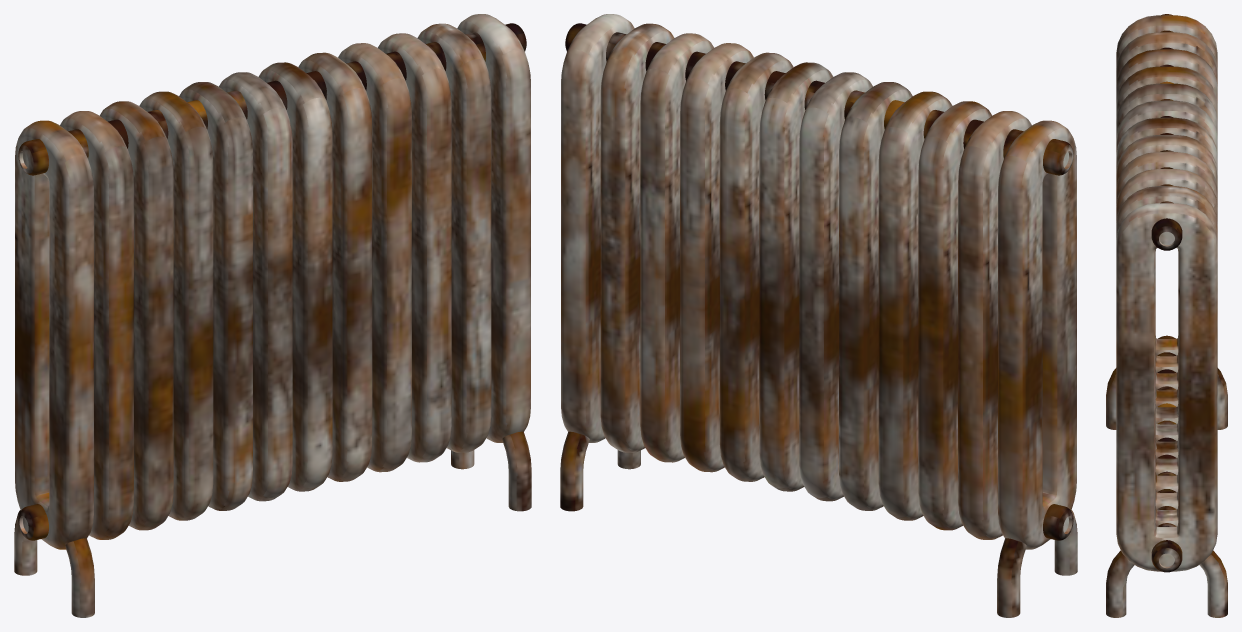
File: Radiator.fbx
3 views of the same model, side by side, from view 1: azimuth 30°, elevation 25°; view 2: azimuth 150°, elevation 25°; view 3: azimuth 270°, elevation 25° (orthographic). The views are drawn at different scales.
Visible parts, largest first — view 1: Radiator_Radiator_0; view 2: Radiator_Radiator_0; view 3: Radiator_Radiator_0.
Part boxes in pixels (box(x1,y1,x2,y2)): Radiator_Radiator_0: box(14, 14, 531, 617); Radiator_Radiator_0: box(560, 14, 1077, 617); Radiator_Radiator_0: box(1106, 14, 1227, 617).
Bounding box in the file's own units: 149 × 133 × 35.96.
Materials: 1 (1 with a texture image).
